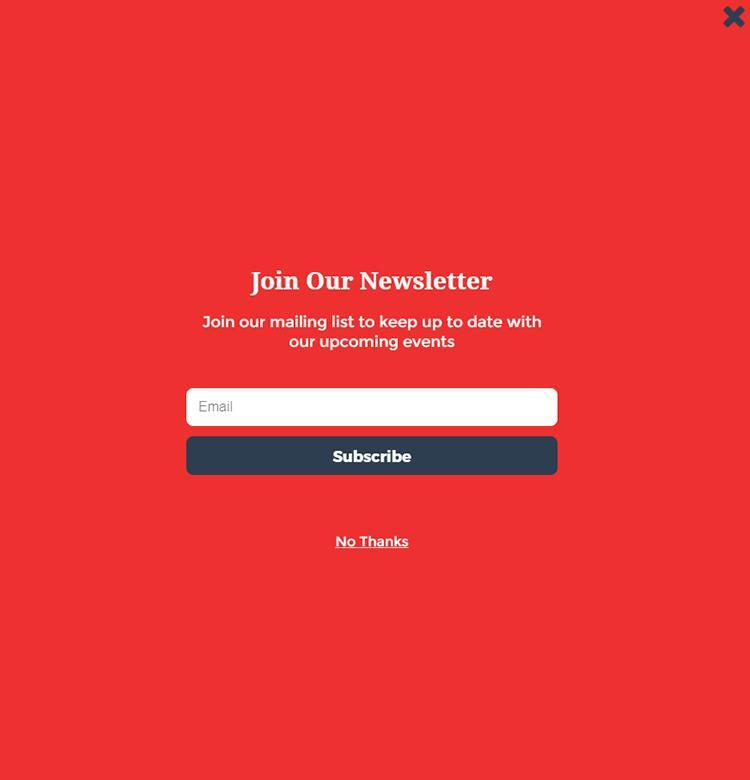button: (189, 436, 559, 478)
icon: (722, 3, 748, 29)
input: (187, 386, 561, 426)
